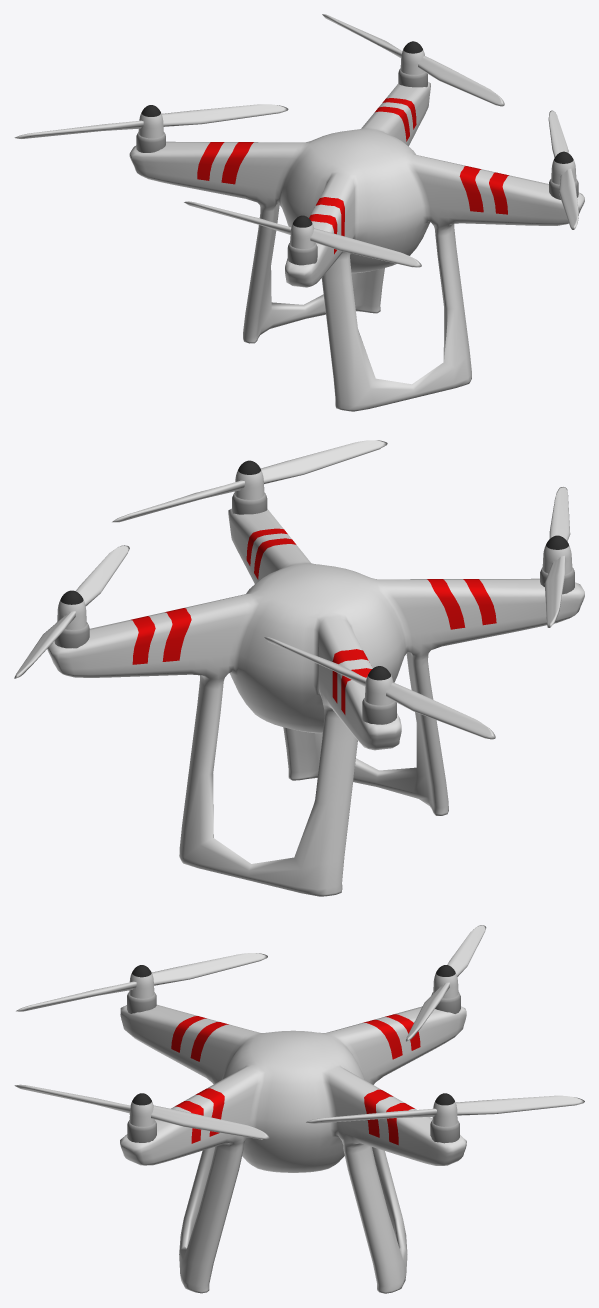
File: drone3.glb
3 views of the same model, one above another, from view 1: azimuth 30°, elevation 25°; view 2: azimuth 150°, elevation 25°; view 3: azimuth 270°, elevation 25° (orthographic). The views are drawn at different scales.
Parts seen in each view (by area): view 1: Drone_shd_white_0, Drone_shd_red_0, Rotor3, Rotor4, Rotor2, Rotor1; view 2: Drone_shd_white_0, Drone_shd_red_0, Rotor1, Rotor3, Rotor2, Rotor4; view 3: Drone_shd_white_0, Rotor2, Drone_shd_red_0, Rotor1, Rotor4, Rotor3.
Part boxes in pixels (<box>): Drone_shd_white_0: <box>129,82,584,411</box>; Drone_shd_red_0: <box>197,98,508,254</box>; Rotor3: <box>14,104,288,152</box>; Rotor4: <box>184,201,421,267</box>; Rotor2: <box>322,14,504,106</box>; Rotor1: <box>548,110,578,229</box>; Drone_shd_white_0: <box>47,508,584,896</box>; Drone_shd_red_0: <box>131,528,496,714</box>; Rotor1: <box>112,440,387,522</box>; Rotor3: <box>264,637,495,739</box>; Rotor2: <box>14,545,129,678</box>; Rotor4: <box>540,486,574,627</box>; Drone_shd_white_0: <box>120,1004,466,1293</box>; Rotor2: <box>305,1093,584,1143</box>; Drone_shd_red_0: <box>171,1014,420,1145</box>; Rotor1: <box>14,1084,269,1142</box>; Rotor4: <box>16,953,267,1013</box>; Rotor3: <box>405,925,486,1041</box>.
Size of the model in its own units: 17.59 by 8.9 by 19.96.
